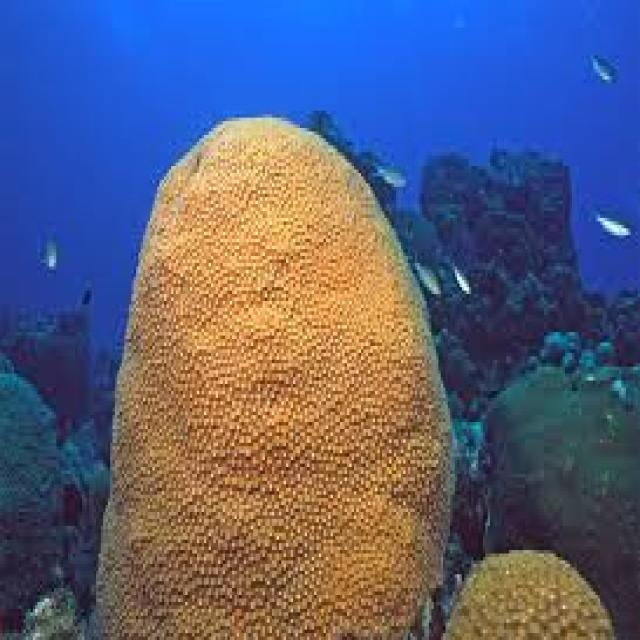Coral: (94, 114, 450, 640), (438, 546, 616, 640)
